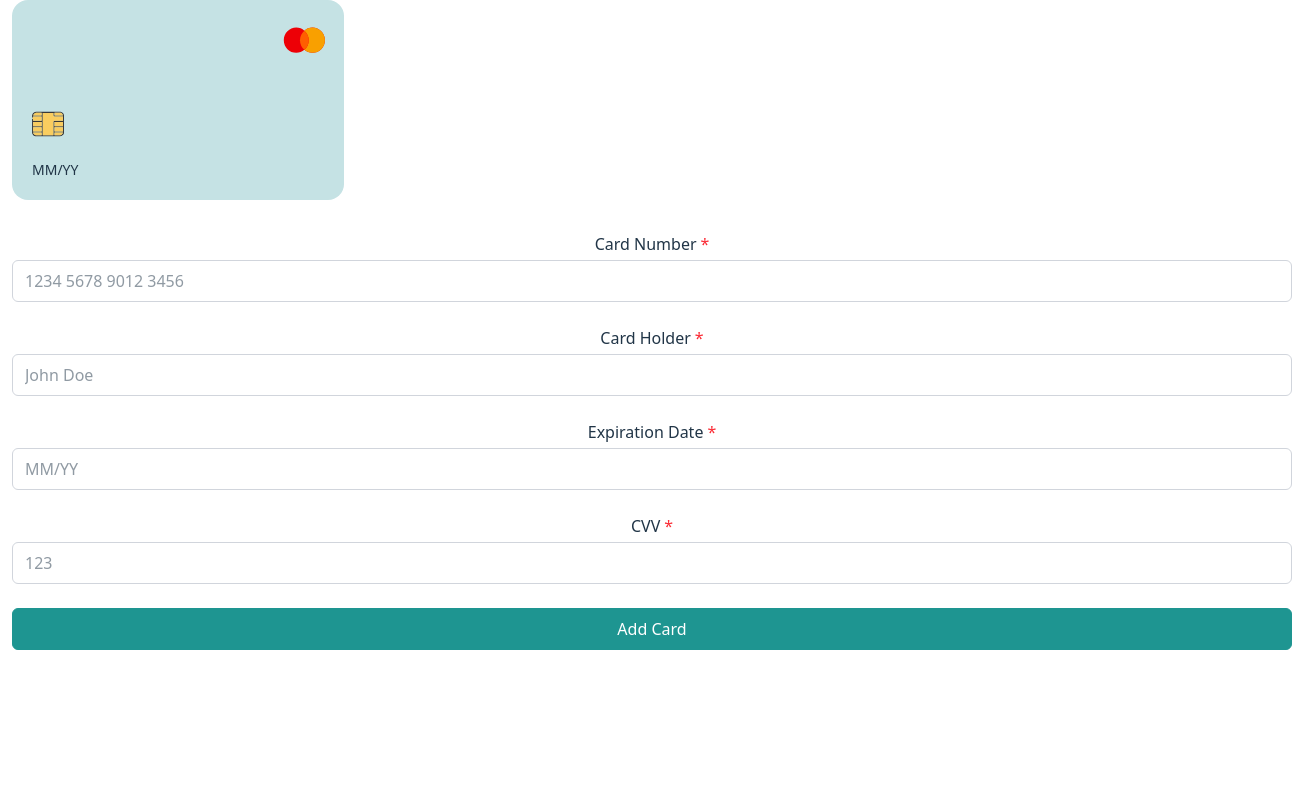
Test: Update card-preview when entering data
Type "1234567890123456" into the field labelled "Card Number*". click: (652, 281)
box: x1=12 y1=260 x2=1292 y2=302
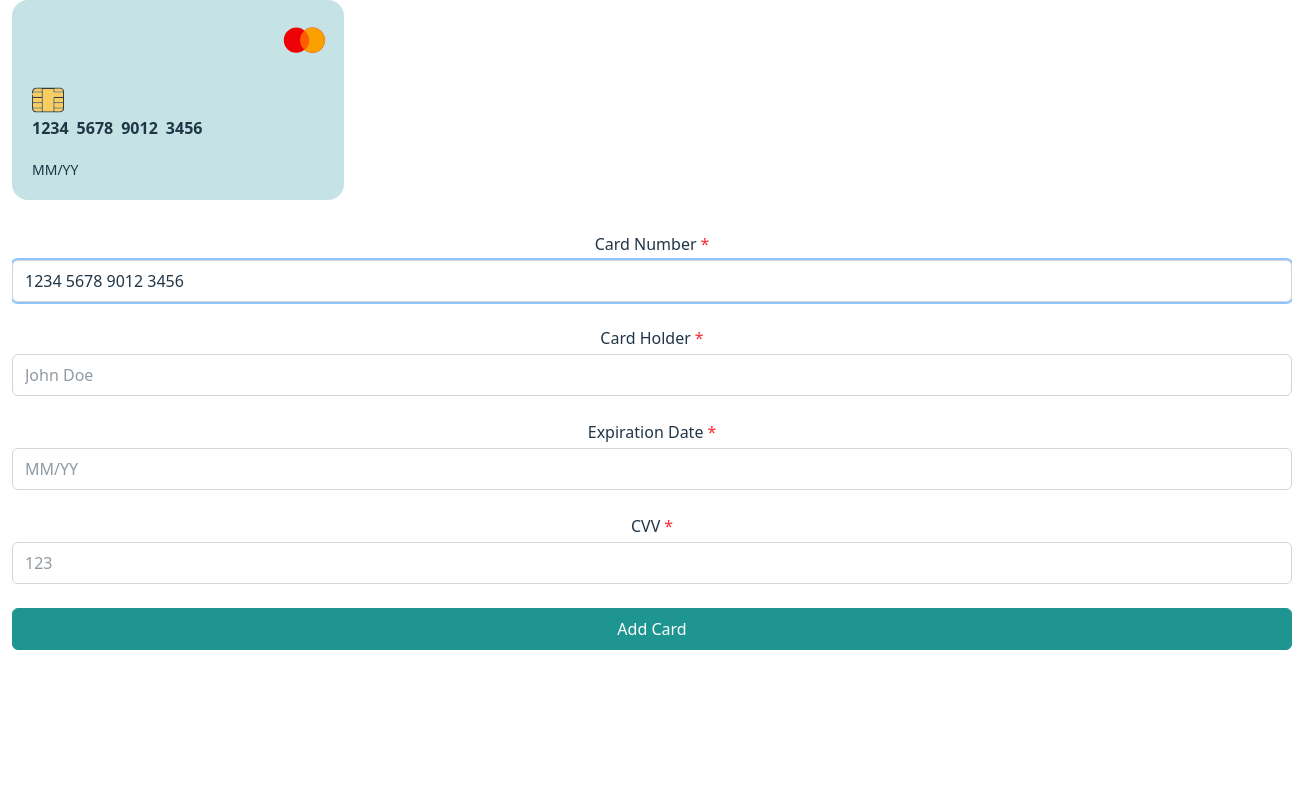
Type "Alice Smith" into the field labelled "Card Holder*". click: (652, 375)
box: x1=12 y1=354 x2=1292 y2=396
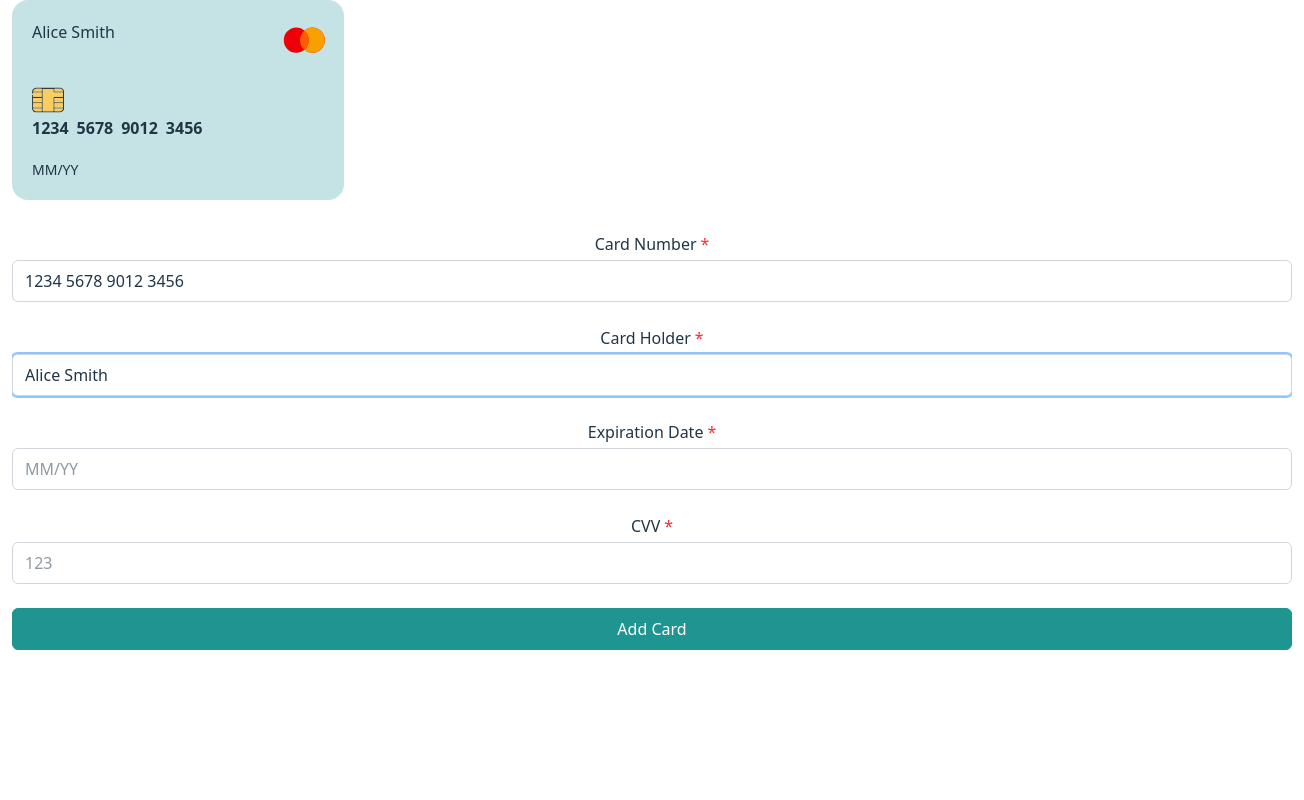
Type "12/34" into the field labelled "Expiration Date*". click: (652, 469)
box: x1=12 y1=448 x2=1292 y2=490
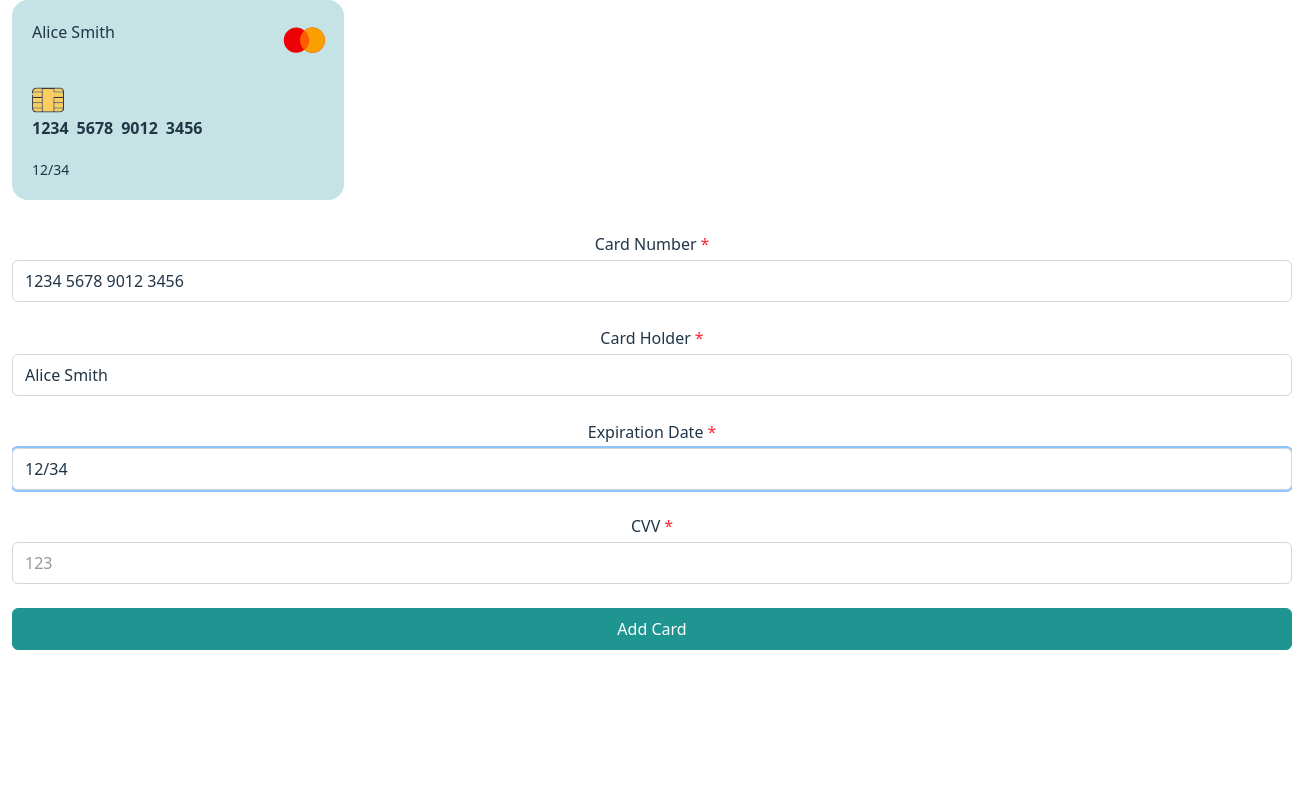
Expected: the element with test id "card-preview" shows "Alice Smith", x1=32 y1=21 x2=115 y2=43
Expected: the element with test id "card-preview" shows "12/34", x1=32 y1=160 x2=69 y2=179
